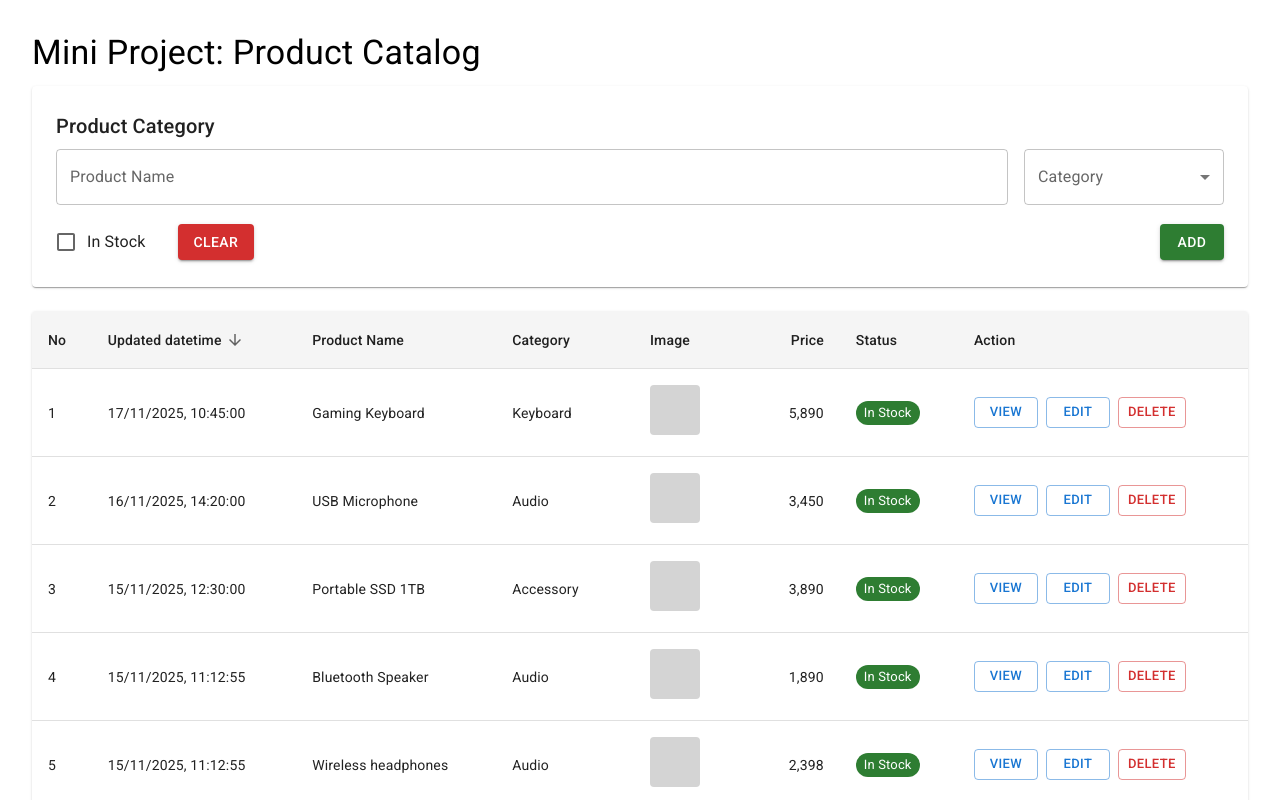
Test: Product Categories Feature Tests › Clear Filters › should reset all filters when clear button is clicked
The image size is (1280, 800).
Note: Apply filters
Step 1. Type "Bluetooth" into the field labelled "Product Name" → (532, 177), box [56,149,1008,205]
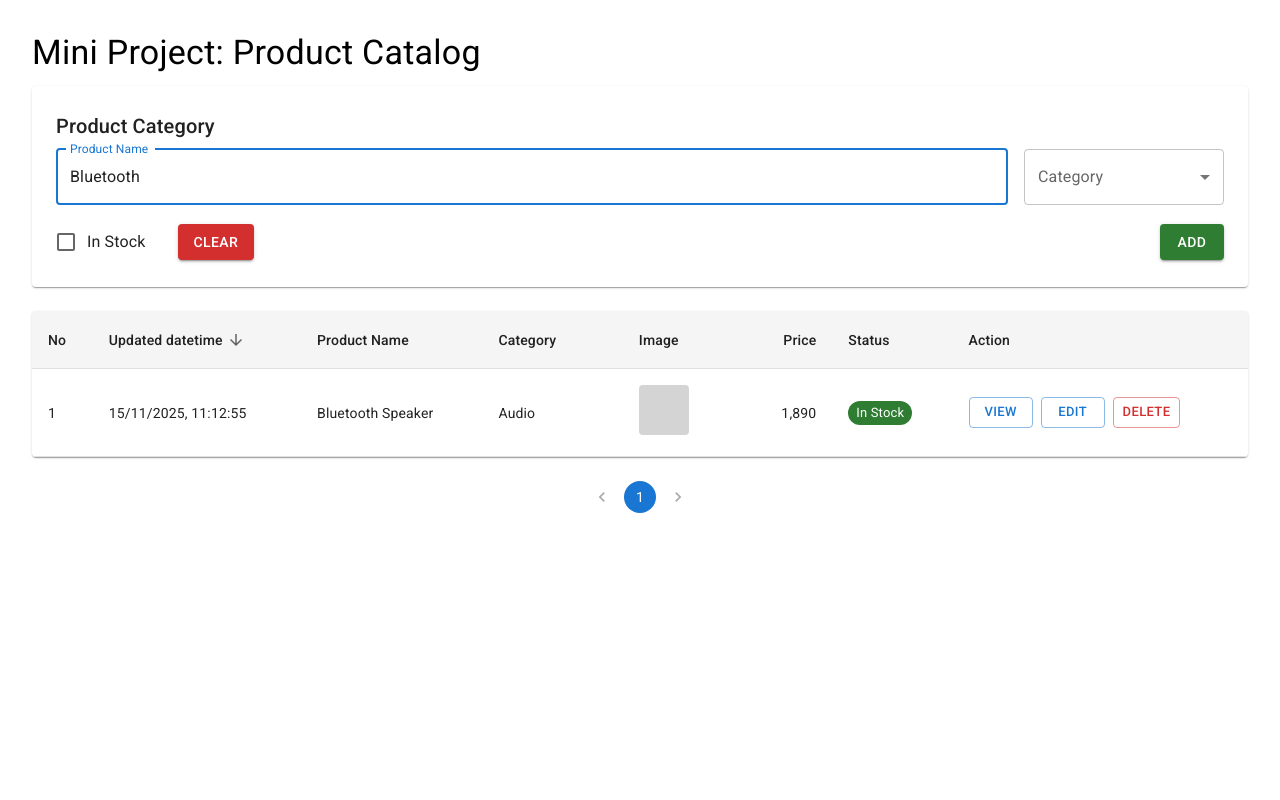
Step 2. Click the element with test id "in-stock-checkbox" → (66, 242), box [54,230,78,254]
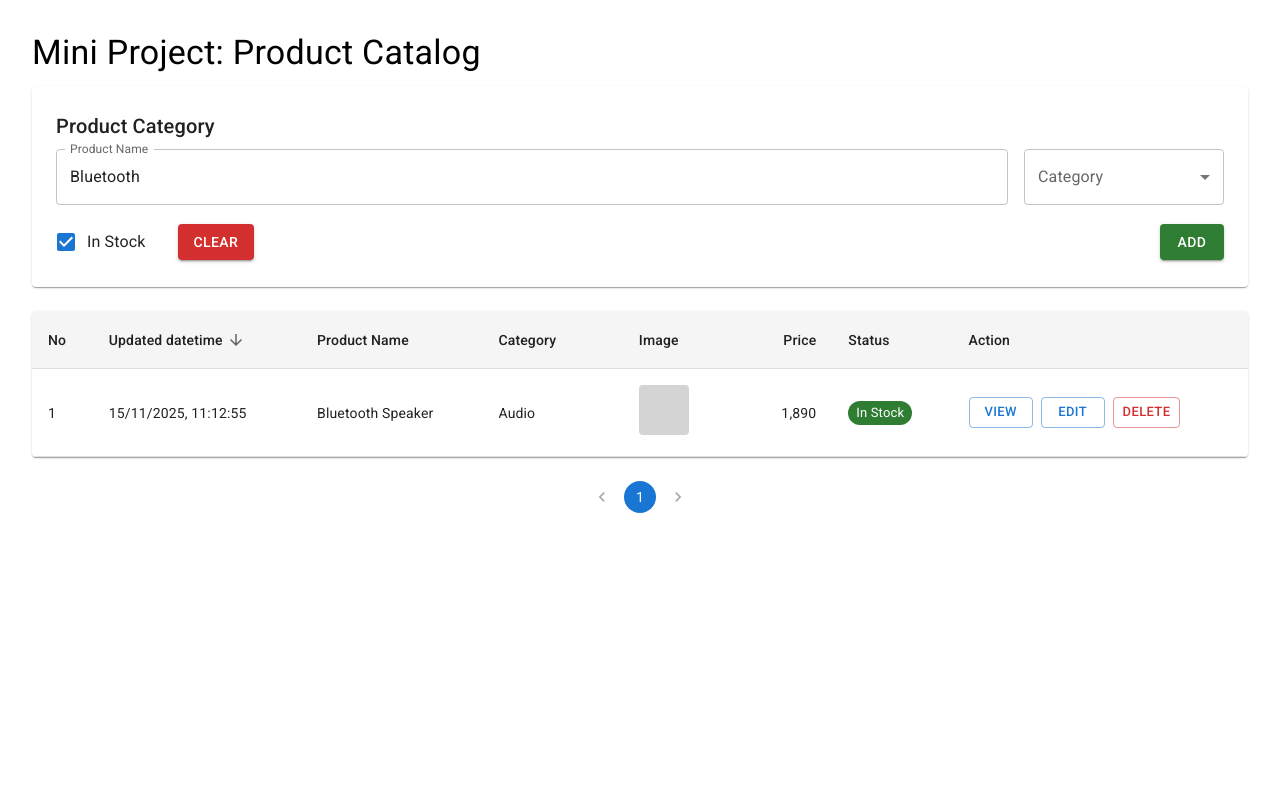
Note: Clear filters
Step 3. Click the button with test id "clear-button" → (216, 242), box [178,224,254,260]
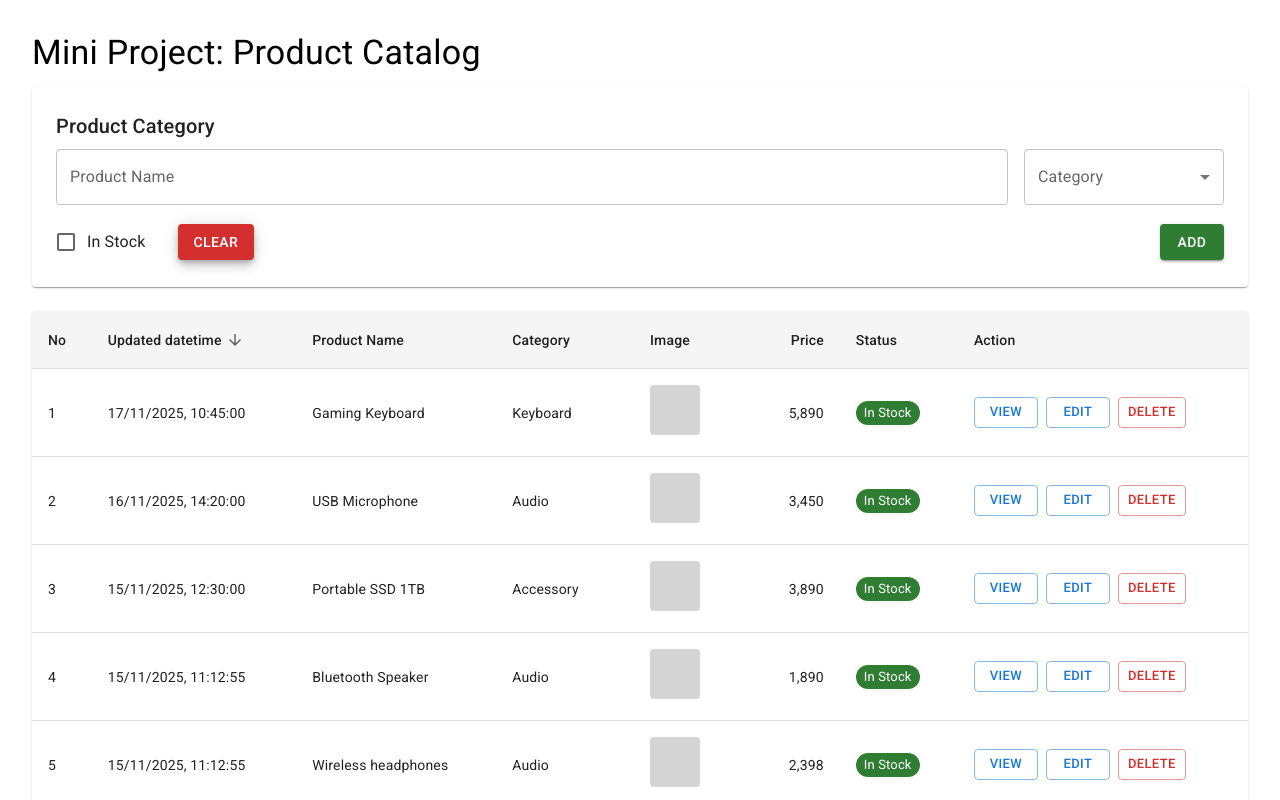
Expected: the element with test id "in-stock-checkbox" is not checked, [54,230,78,254]
Now the field labelled "Product Name" is empty, box [56,149,1008,205]
